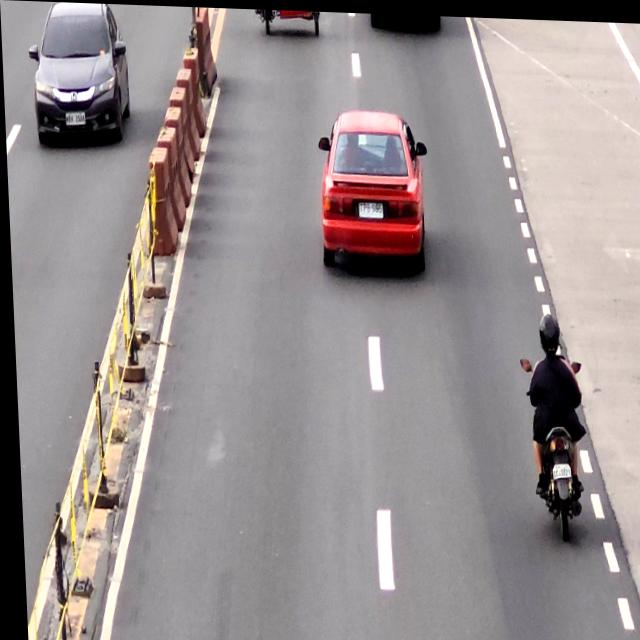Car: (314, 106, 430, 271)
License-Plate: (356, 197, 383, 217), (547, 458, 568, 477)
Motorcycle: (516, 348, 585, 533)
